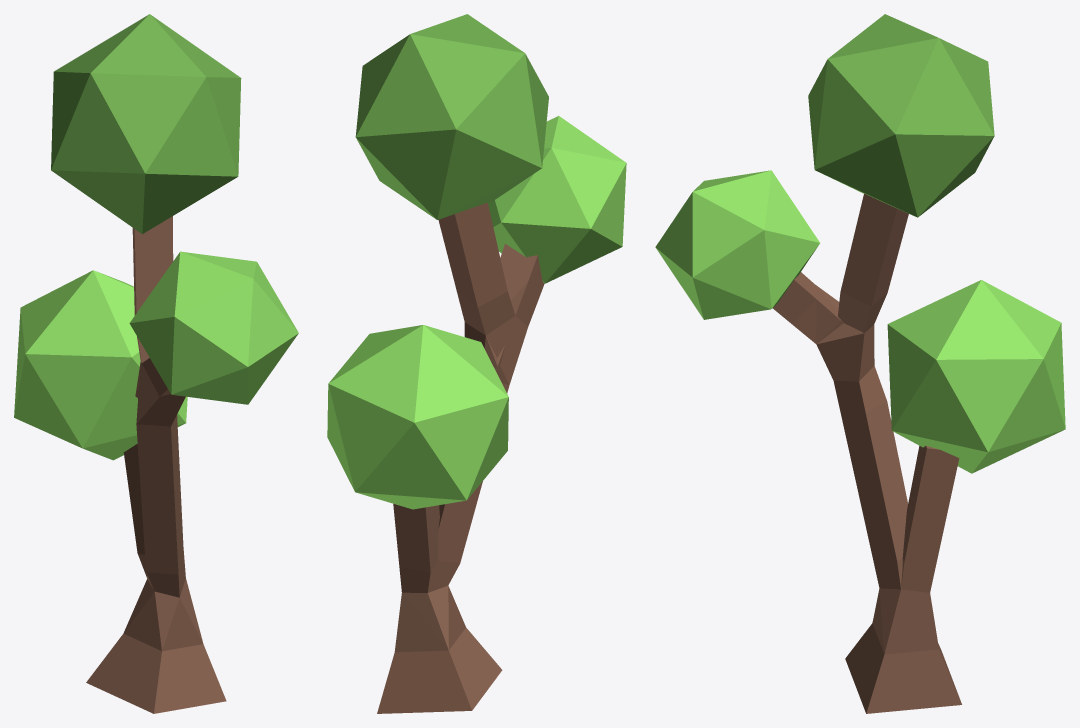
The model's file is Tree2.fbx.
The picture shows the model from 3 angles, left to right: view 1: azimuth 30°, elevation 25°; view 2: azimuth 150°, elevation 25°; view 3: azimuth 270°, elevation 25°; orthographic projection. The views are drawn at different scales.
Parts seen in each view (by area): view 1: Icosphere.003, Cube.005, Icosphere.004, Icosphere.005; view 2: Icosphere.003, Icosphere.004, Cube.005, Icosphere.005; view 3: Cube.005, Icosphere.003, Icosphere.004, Icosphere.005.
Boxes of the visible parts, x1,y1,x2,y2 form: Icosphere.003: [51, 14, 241, 234]; Cube.005: [86, 216, 226, 713]; Icosphere.004: [14, 270, 187, 460]; Icosphere.005: [129, 251, 298, 404]; Icosphere.003: [355, 14, 548, 219]; Icosphere.004: [327, 325, 508, 509]; Cube.005: [377, 202, 544, 713]; Icosphere.005: [488, 116, 626, 283]; Cube.005: [772, 193, 961, 713]; Icosphere.003: [808, 14, 994, 217]; Icosphere.004: [887, 280, 1065, 473]; Icosphere.005: [655, 170, 819, 319].
Size of the model in its own units: 154 by 536 by 304.
